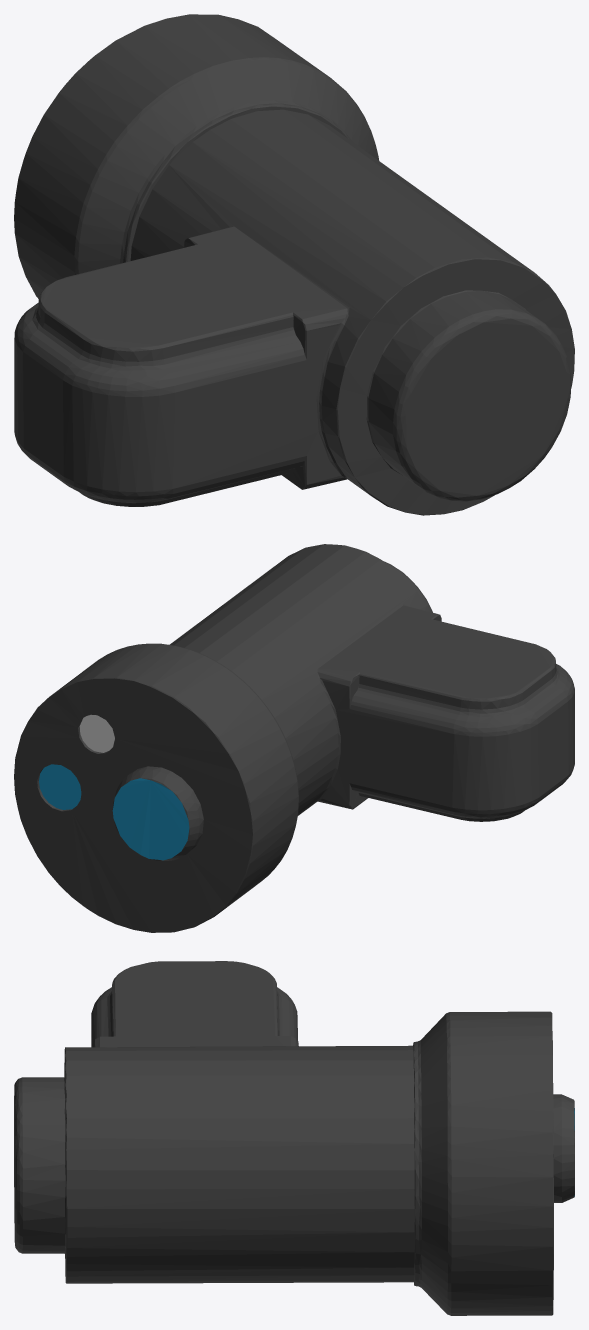
Rendered from sensor_head_collision.dae.
3 renders of one model, top to bottom at view 1: azimuth 30°, elevation 25°; view 2: azimuth 150°, elevation 25°; view 3: azimuth 270°, elevation 25°, orthographic. The views are drawn at different scales.
Parts seen in each view (by area): view 1: EyeOfSauron; view 2: EyeOfSauron; view 3: EyeOfSauron.
Part boxes in pixels (x1,y1,x2,y2): EyeOfSauron: [14, 14, 574, 515]; EyeOfSauron: [14, 544, 574, 932]; EyeOfSauron: [14, 961, 574, 1315].
Size of the model in its own units: 0.2567 by 0.2987 by 0.1618.
